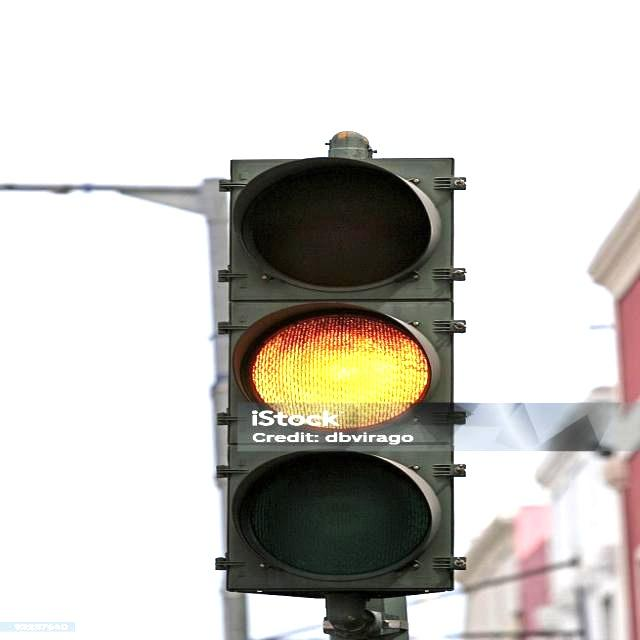Yellow: (229, 156, 456, 594)
